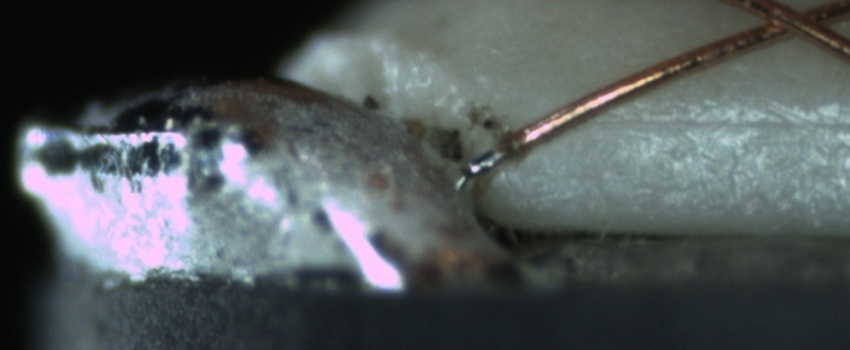CL: (736, 1, 846, 45)
DL: (581, 90, 840, 154)
TS: (459, 145, 506, 181)
TTCW: (461, 120, 546, 178)
